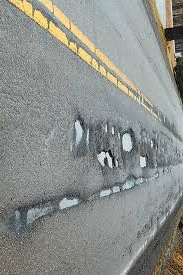pothole: (27, 198, 57, 223), (58, 193, 85, 213), (71, 114, 86, 147), (95, 149, 116, 169), (120, 127, 133, 152), (122, 173, 135, 198), (13, 208, 22, 231), (99, 186, 112, 200), (110, 181, 121, 196), (138, 155, 149, 169), (133, 175, 144, 187), (150, 137, 157, 149), (102, 121, 109, 133), (111, 126, 116, 138)
